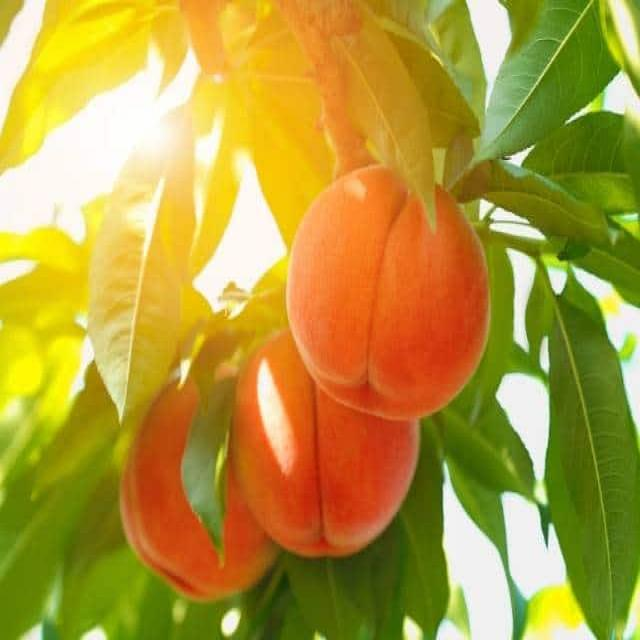Peach: (28, 0, 640, 640)
